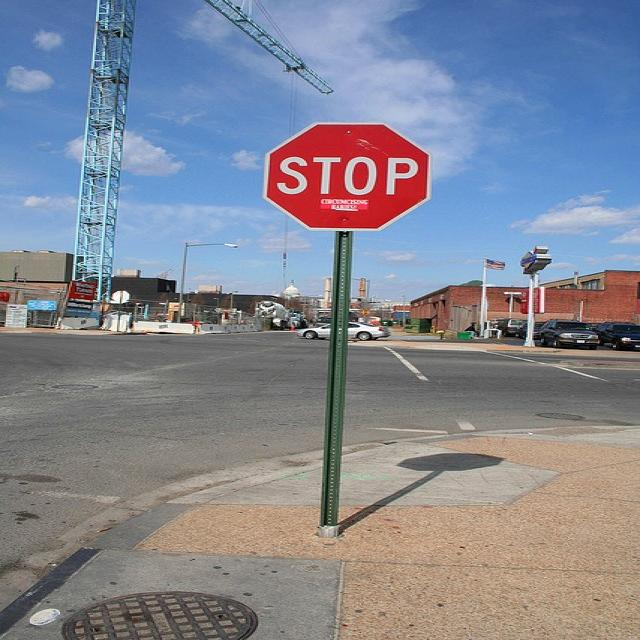car: (534, 316, 598, 349), (294, 320, 389, 339), (592, 317, 637, 351), (492, 316, 523, 335), (514, 321, 543, 339)
pole: (313, 228, 363, 538), (523, 273, 540, 346), (476, 255, 488, 339)
